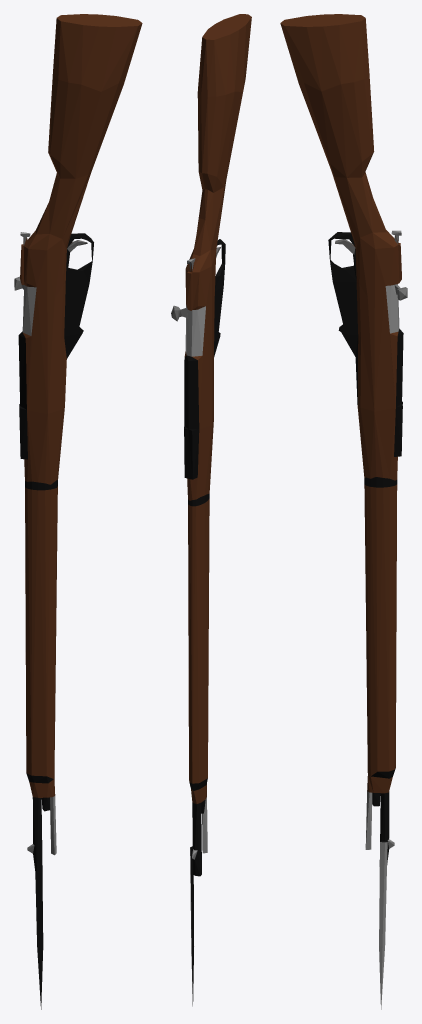
Rendered from MosinZBagnetem.fbx.
The picture shows the model from 3 angles, left to right: view 1: azimuth 90°, elevation 25°; view 2: azimuth 150°, elevation 25°; view 3: azimuth 270°, elevation 25°; orthographic projection. The views are drawn at different scales.
Visible parts, largest first — view 1: Mosin.copy; view 2: Mosin.copy; view 3: Mosin.copy.
Part boxes in pixels (x1,y1,x2,y2): Mosin.copy: [14, 14, 142, 1009]; Mosin.copy: [171, 14, 251, 1006]; Mosin.copy: [280, 14, 407, 1009].
Bounding box in the file's own units: 17.49 × 150 × 5.32.
